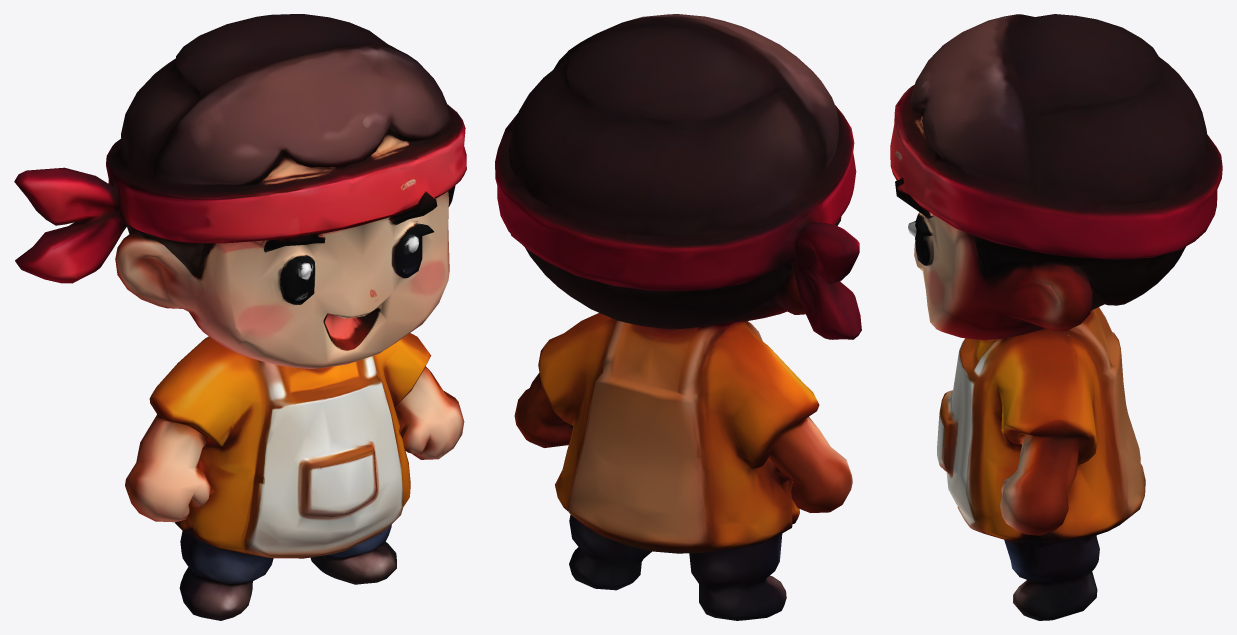
Rendered from hero_sweep_tripo_20261113.glb.
3 renders of one model, left to right at view 1: azimuth 30°, elevation 25°; view 2: azimuth 150°, elevation 25°; view 3: azimuth 270°, elevation 25°, orthographic. The views are drawn at different scales.
Visible parts, largest first — view 1: tripo_node_4fcb00cd-7fc1-45fc-9d2d-a445601e1d3b; view 2: tripo_node_4fcb00cd-7fc1-45fc-9d2d-a445601e1d3b; view 3: tripo_node_4fcb00cd-7fc1-45fc-9d2d-a445601e1d3b.
Boxes of the visible parts, <box> form: tripo_node_4fcb00cd-7fc1-45fc-9d2d-a445601e1d3b: <box>14,14,466,620</box>; tripo_node_4fcb00cd-7fc1-45fc-9d2d-a445601e1d3b: <box>495,14,861,620</box>; tripo_node_4fcb00cd-7fc1-45fc-9d2d-a445601e1d3b: <box>890,14,1222,620</box>.
Size of the model in its own units: 0.7308 by 1 by 0.5514.
1 material, 1 textured.
